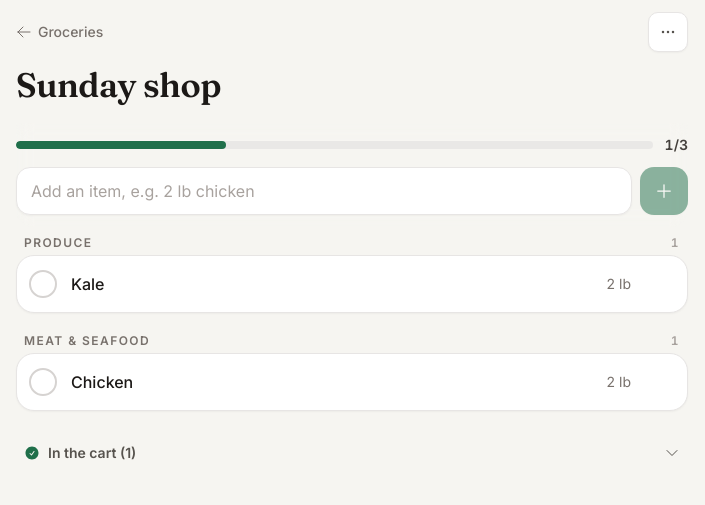
Test: GroceryListDetailPage › checks items optimistically and shows the completion state
Click the checkbox labelled "Kale 2 lb": [88, 284] box [21,256,639,312]
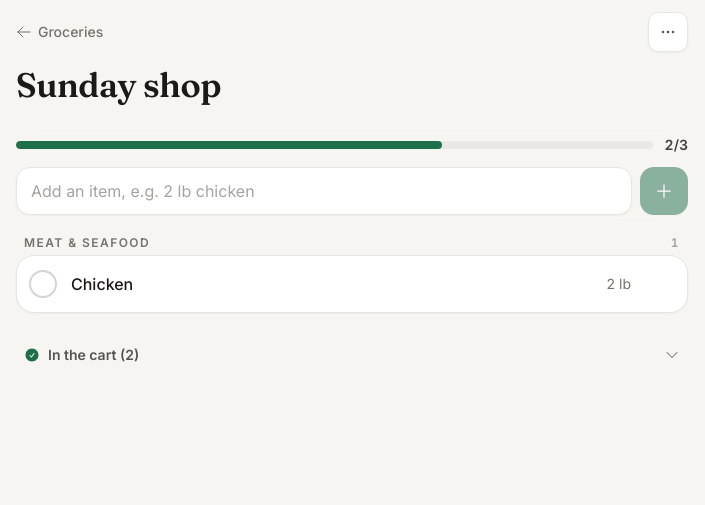
Click the checkbox labelled "Chicken 2 lb": [102, 284] box [21,256,639,312]
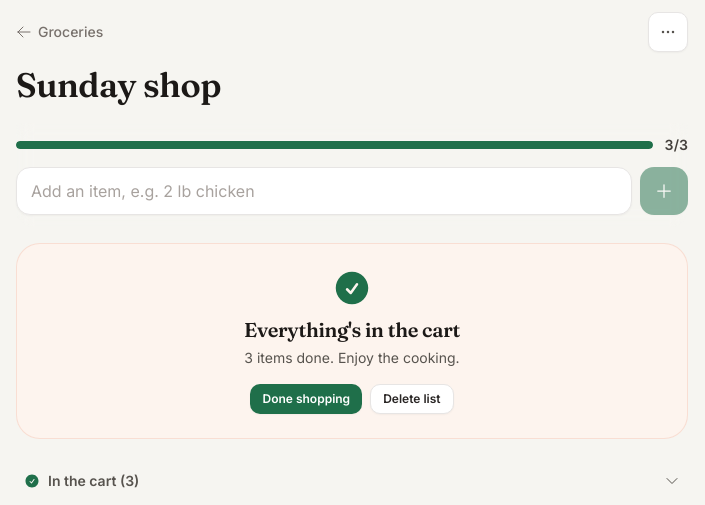
Expected: the heading "Everything's in the cart" is shown, [244,316,460,342]
